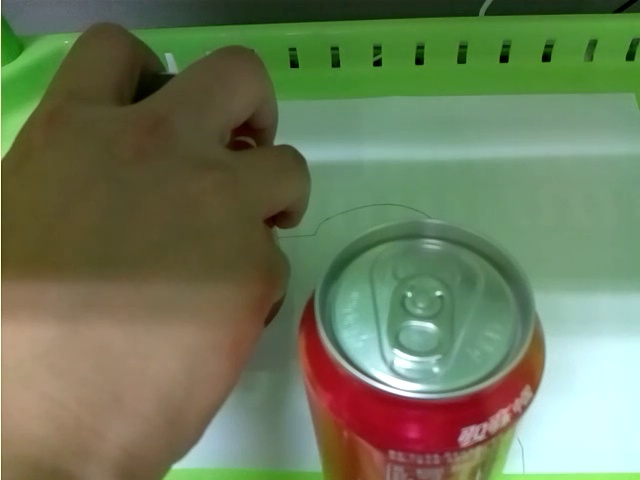cocacola: (301, 219, 549, 480)
hand: (1, 24, 308, 473)
